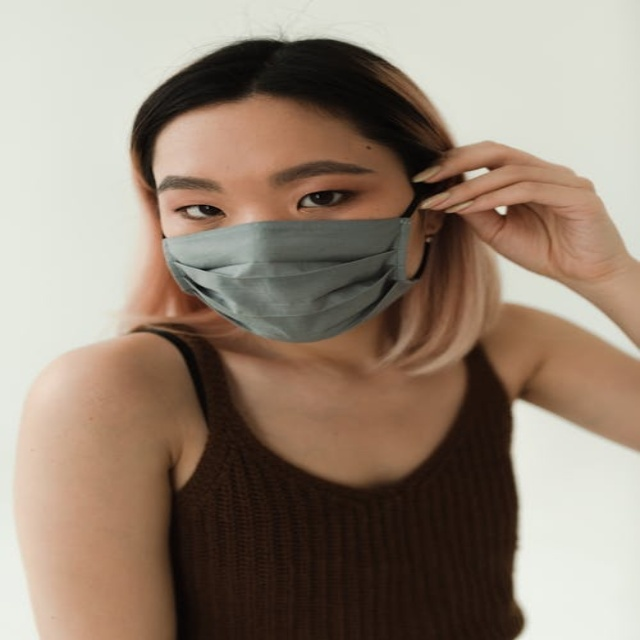Mascara: (161, 201, 431, 343)
Sin_gafas: (297, 188, 356, 209), (174, 203, 227, 221)
Sin_guantes: (415, 129, 628, 285)
